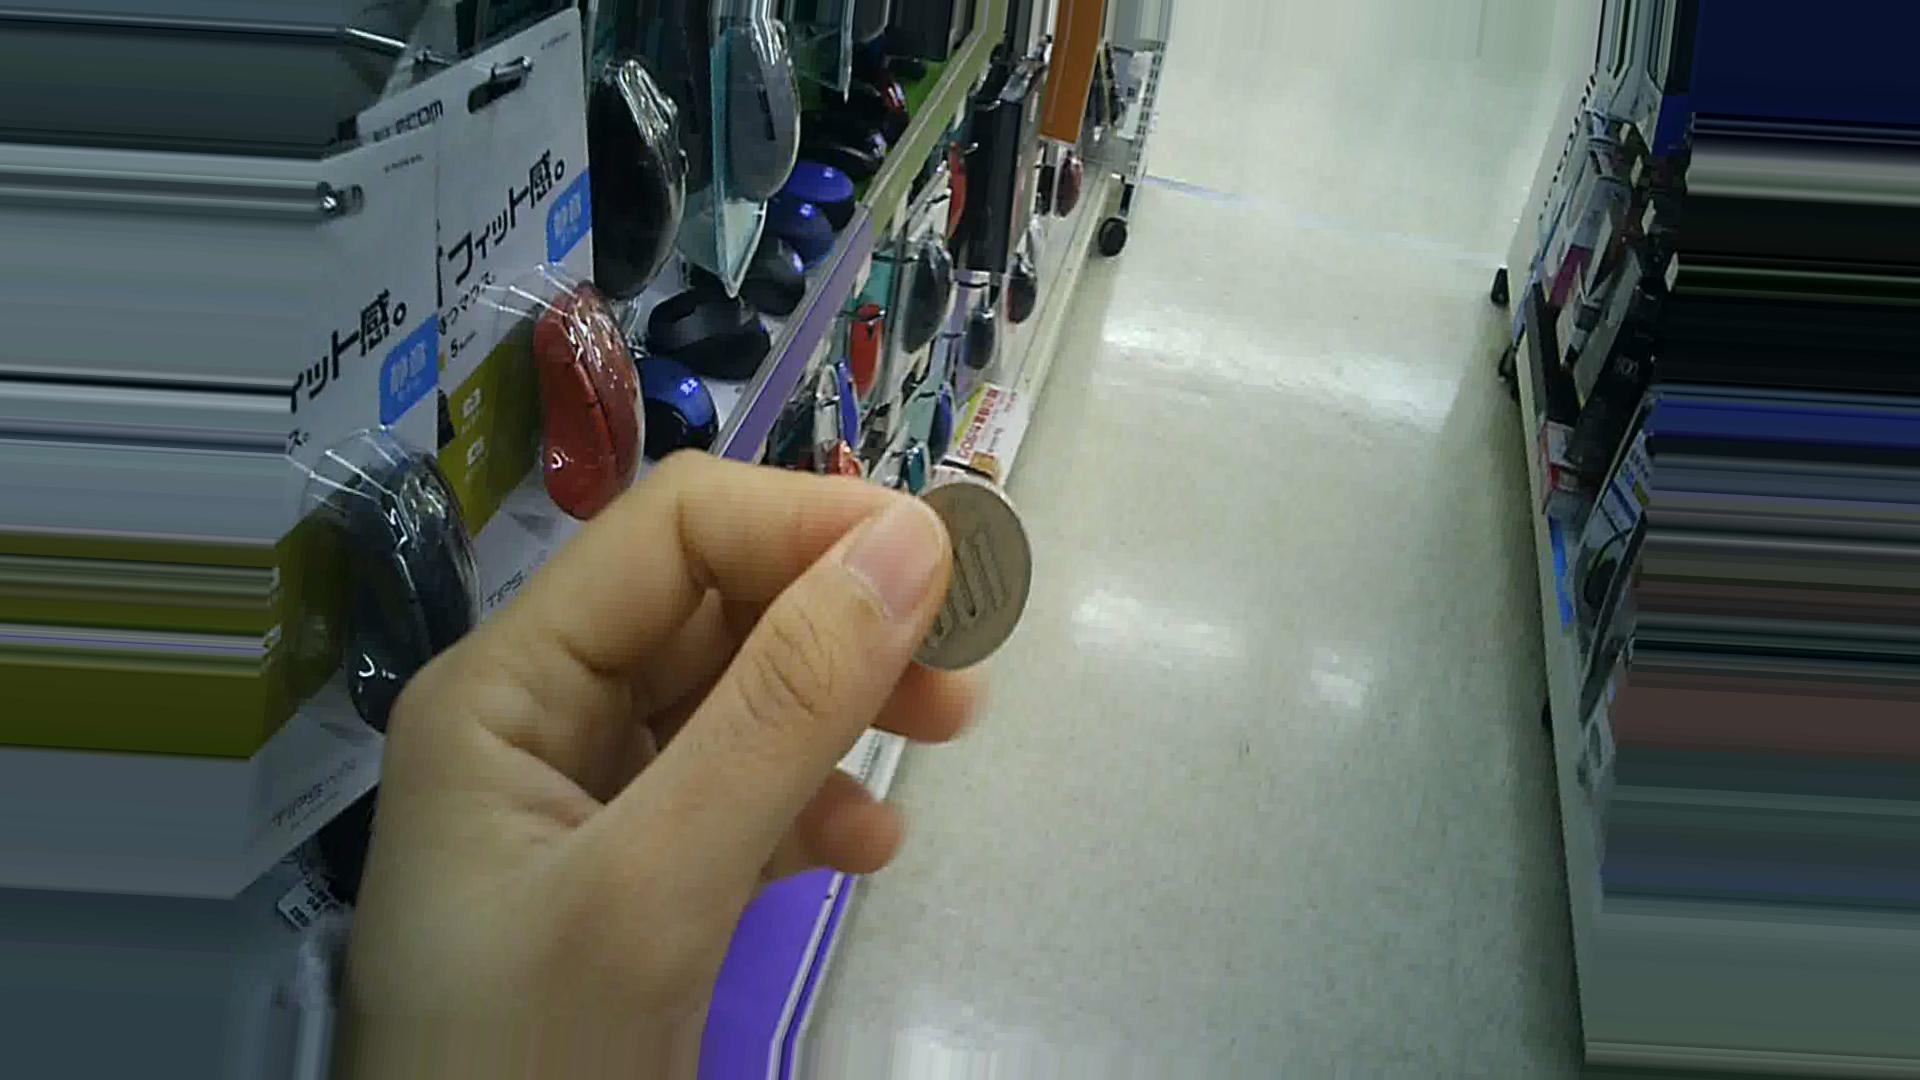100 Yen: (887, 473, 1056, 673)
